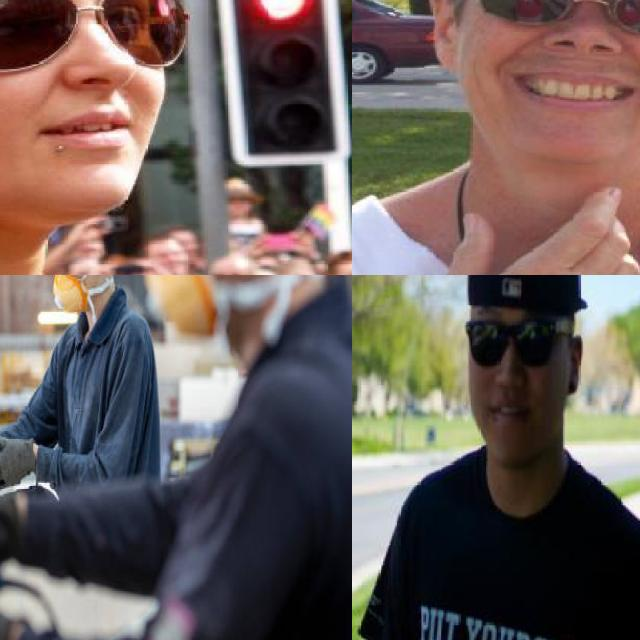face_mask: (147, 275, 216, 334), (53, 275, 88, 312)
face_nomask: (0, 0, 153, 183), (476, 0, 640, 118), (465, 320, 566, 430)
glasses: (0, 0, 182, 82), (461, 306, 579, 376), (455, 0, 640, 34)
hand_glove: (0, 494, 27, 565), (0, 437, 36, 485)
hand_noglove: (431, 177, 640, 275)
head_nohelmet: (460, 275, 591, 321)
person: (355, 275, 640, 640)
